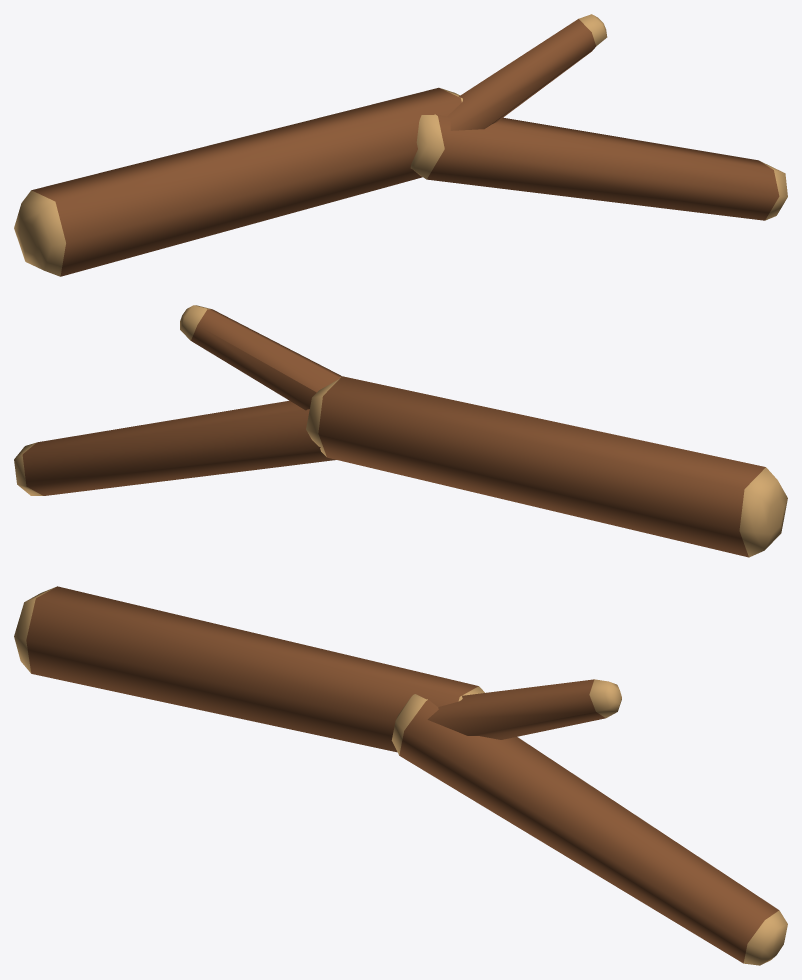
File: stick_1.glb
3 renders of one model, top to bottom at view 1: azimuth 30°, elevation 25°; view 2: azimuth 150°, elevation 25°; view 3: azimuth 330°, elevation 25°, orthographic.
Visible parts, largest first — view 1: Prop; view 2: Prop; view 3: Prop.
Part boxes in pixels (x1,y1,x2,y2): Prop: (14,14,787,276); Prop: (14,305,787,557); Prop: (14,586,787,965).
Size of the model in its own units: 0.851 by 0.2525 by 0.0882.
